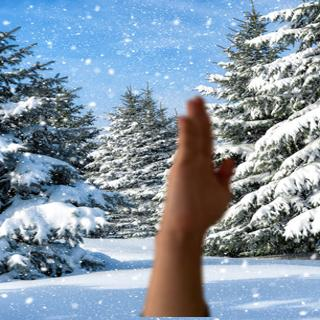RIGHT: (161, 90, 246, 241)
